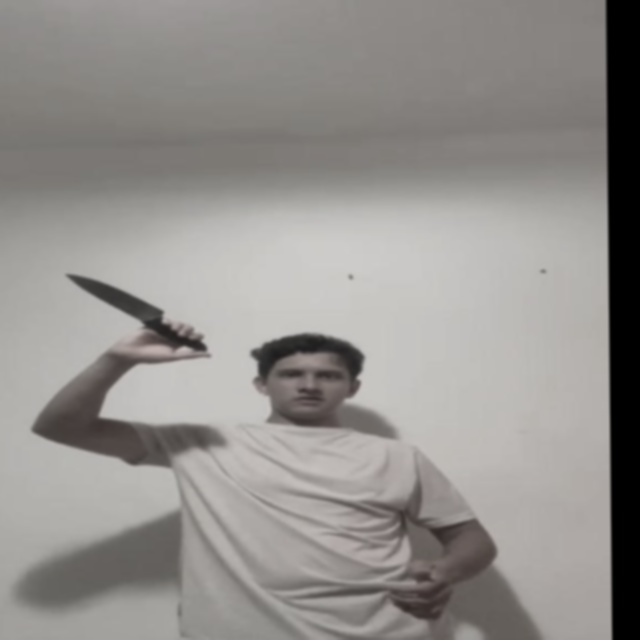Sharp-Object: (70, 270, 160, 318)
